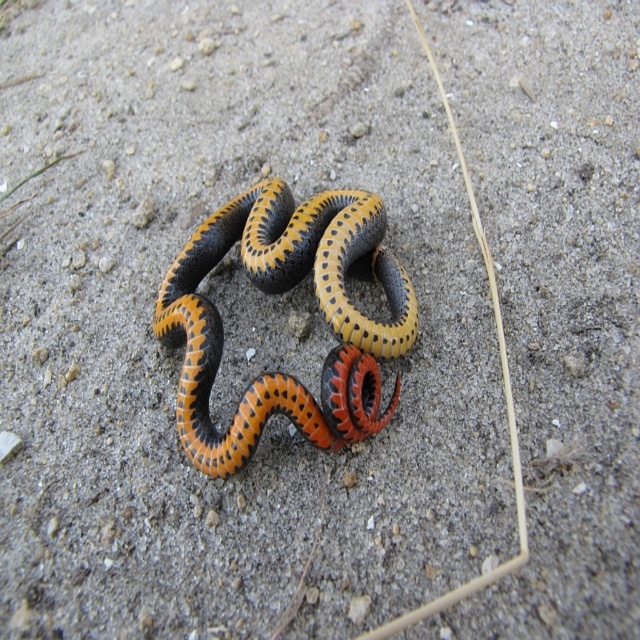Snake: (154, 175, 418, 481)
